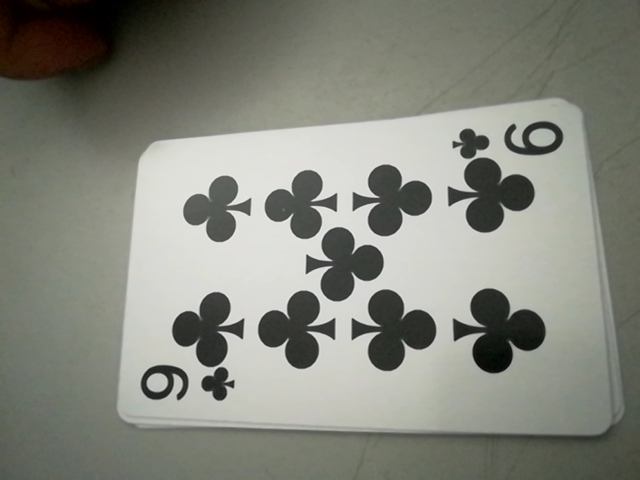mh 9: (136, 359, 240, 416), (446, 116, 566, 165)
